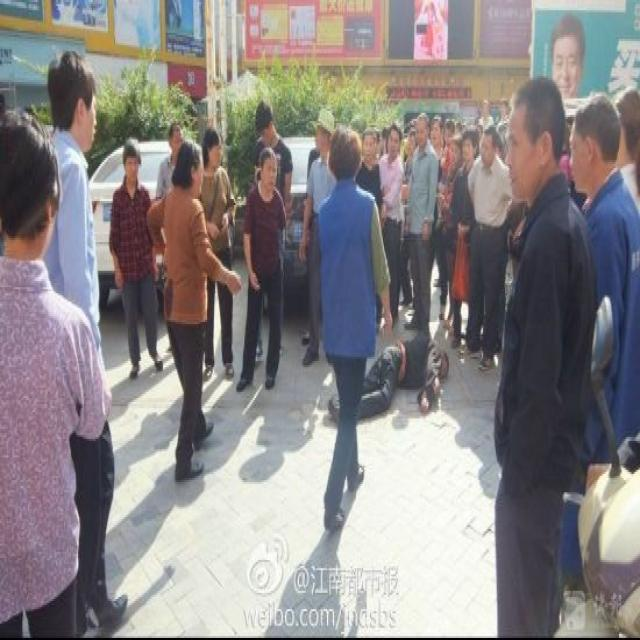10-: (1, 39, 639, 628)
down: (333, 322, 464, 429)
